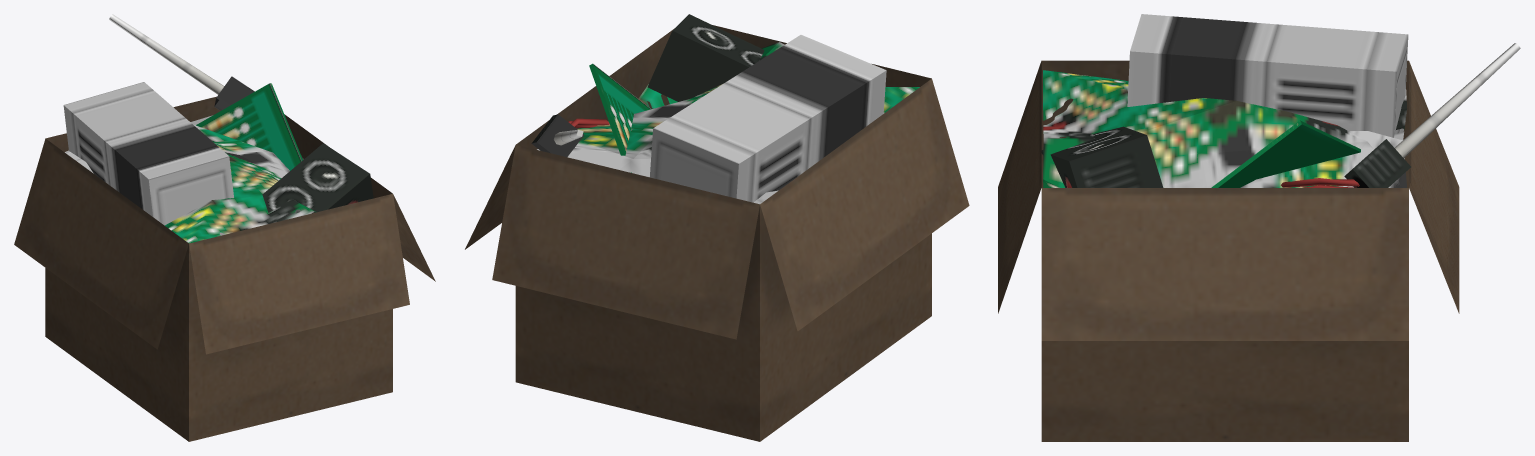
File: box_of_electronics_scrap.fbx
The picture shows the model from 3 angles, left to right: view 1: azimuth 30°, elevation 25°; view 2: azimuth 150°, elevation 25°; view 3: azimuth 270°, elevation 25°; orthographic projection. The views are drawn at different scales.
Visible parts, largest first — view 1: ElectronicsScrapBox; view 2: ElectronicsScrapBox; view 3: ElectronicsScrapBox.
Boxes of the visible parts, left/top/right/bottom form: ElectronicsScrapBox: left=14, top=14, right=435, bottom=441; ElectronicsScrapBox: left=465, top=14, right=969, bottom=441; ElectronicsScrapBox: left=998, top=14, right=1520, bottom=441.
Bounding box in the file's own units: 0.3476 × 0.3164 × 0.4418.
